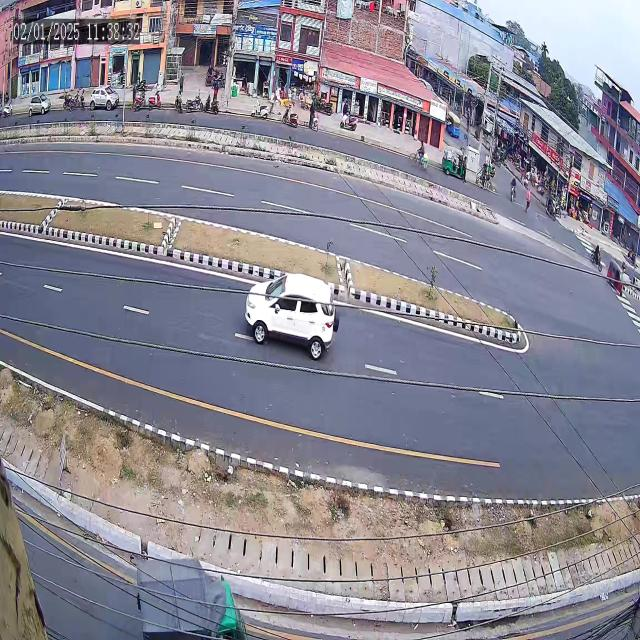car: (234, 244, 351, 379)
